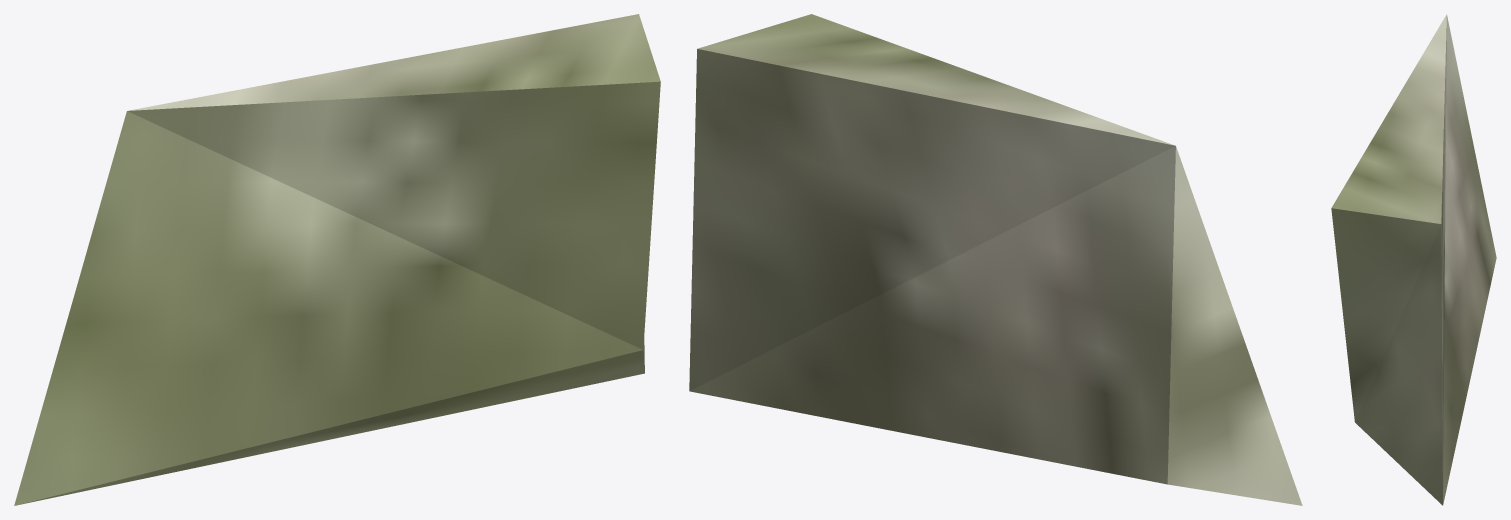
3 renders of one model, left to right at view 1: azimuth 30°, elevation 25°; view 2: azimuth 150°, elevation 25°; view 3: azimuth 270°, elevation 25°, orthographic. The views are drawn at different scales.
Size of the model in its own units: 0.1763 by 0.102 by 0.0513.
1 material, 1 textured.
